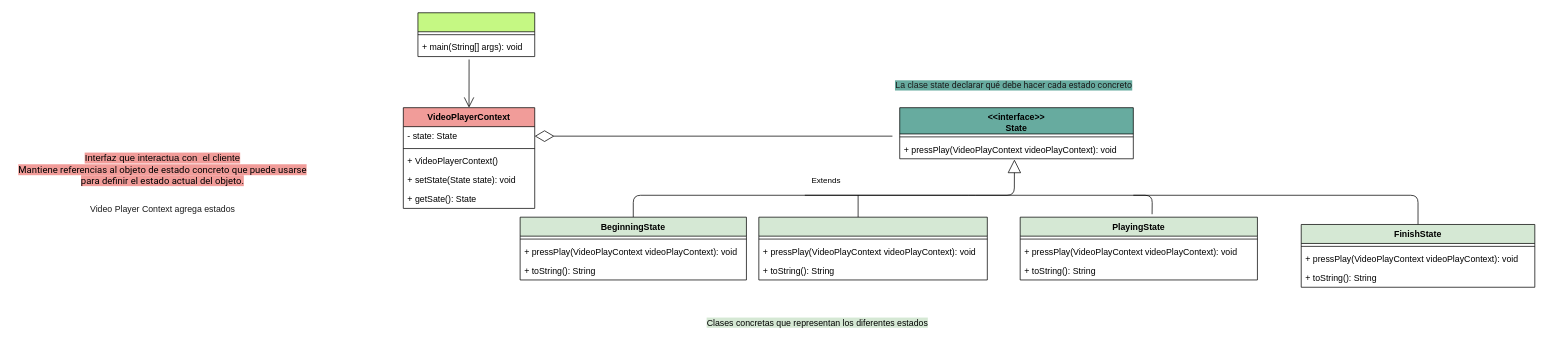
Image size: 1548x343. Some labels were removed from this diagram. Each missing label, with the box of its shape:
Client: (417, 12, 535, 57)
StandByState: (758, 216, 987, 280)
